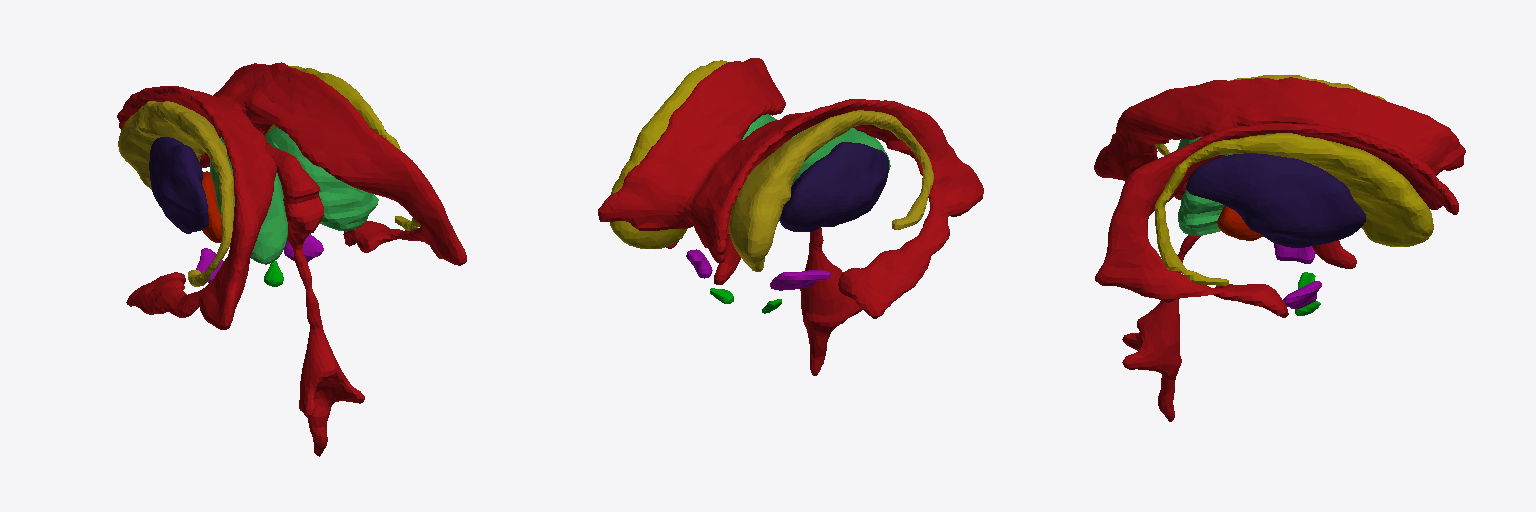
File: brain_segments.obj
3 views of the same model, side by side, from view 1: azimuth 30°, elevation 25°; view 2: azimuth 150°, elevation 25°; view 3: azimuth 270°, elevation 25° (orthographic).
Parts seen in each view (by area): view 1: ventricle_ventricle, left_caudate_left_caudate, thalamus_thalamus.001, left_putamen_left_putamen, right_caudate_right_caudate, left_and_right_subthalamic_left_and_right_subthalamic, right_globus_pallidus_right_globus_pallidus; view 2: ventricle_ventricle, left_caudate_left_caudate, left_putamen_left_putamen, right_caudate_right_caudate, left_and_right_subthalamic_left_and_right_subthalamic, thalamus_thalamus.001; view 3: ventricle_ventricle, right_putamen_right_putamen, right_caudate_right_caudate, thalamus_thalamus.001, left_and_right_subthalamic_left_and_right_subthalamic, left_globus_pallidus_left_globus_pallidus.
Boxes of the visible parts, x1,y1,x2,y2 form: ventricle_ventricle: [117, 62, 466, 456]; left_caudate_left_caudate: [118, 101, 234, 286]; thalamus_thalamus.001: [210, 127, 378, 264]; left_putamen_left_putamen: [149, 137, 208, 233]; right_caudate_right_caudate: [265, 66, 420, 230]; left_and_right_subthalamic_left_and_right_subthalamic: [196, 234, 323, 282]; right_globus_pallidus_right_globus_pallidus: [202, 171, 221, 242]; ventricle_ventricle: [598, 58, 983, 375]; left_caudate_left_caudate: [729, 110, 933, 271]; left_putamen_left_putamen: [779, 142, 888, 231]; right_caudate_right_caudate: [610, 60, 727, 248]; left_and_right_subthalamic_left_and_right_subthalamic: [686, 249, 830, 290]; thalamus_thalamus.001: [742, 114, 890, 186]; ventricle_ventricle: [1094, 77, 1465, 421]; right_putamen_right_putamen: [1186, 153, 1365, 247]; right_caudate_right_caudate: [1155, 133, 1433, 285]; thalamus_thalamus.001: [1174, 137, 1231, 235]; left_and_right_subthalamic_left_and_right_subthalamic: [1274, 243, 1321, 308]; left_globus_pallidus_left_globus_pallidus: [1217, 206, 1263, 240].
Size of the model in its own units: 6.37 by 7.59 by 7.89.